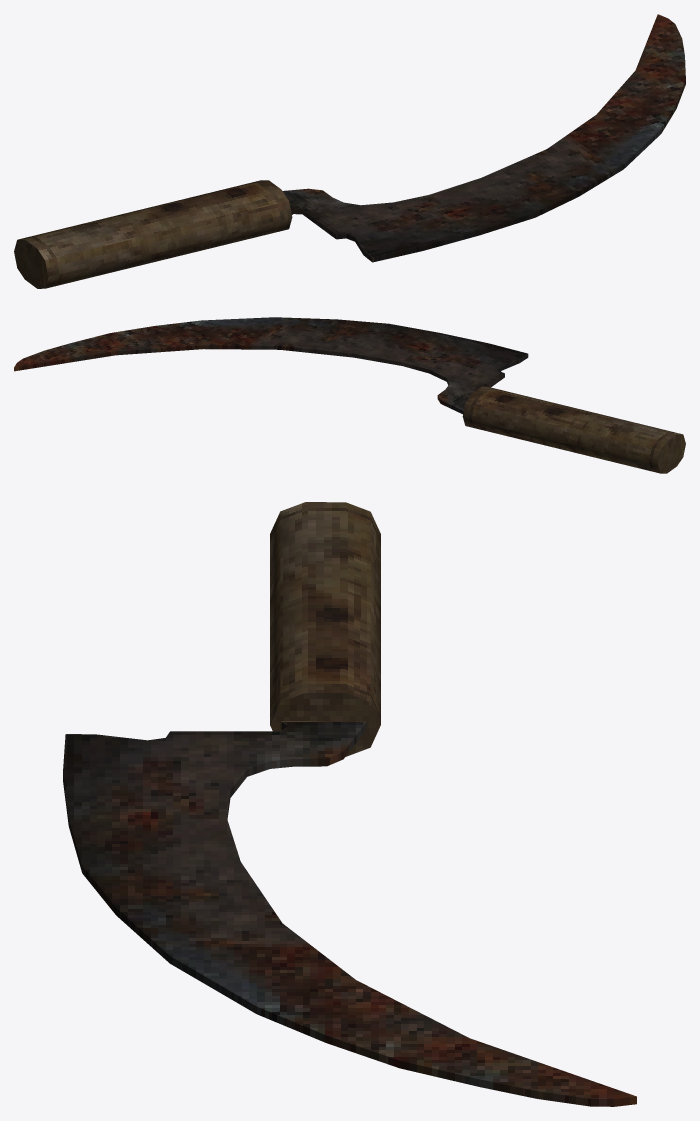
The model's file is sickle_mx_1.glb.
3 views of the same model, one above another, from view 1: azimuth 30°, elevation 25°; view 2: azimuth 150°, elevation 25°; view 3: azimuth 270°, elevation 25° (orthographic). The views are drawn at different scales.
Parts seen in each view (by area): view 1: sickle_mx_1; view 2: sickle_mx_1; view 3: sickle_mx_1.
Part boxes in pixels (x1=…): sickle_mx_1: x1=14, y1=14, x2=685, y2=288; sickle_mx_1: x1=14, y1=317, x2=685, y2=473; sickle_mx_1: x1=63, y1=502, x2=636, y2=1106.
Bounding box in the file's own units: 0.4752 × 0.025 × 0.2027.
Materials: 1 (1 with a texture image).
